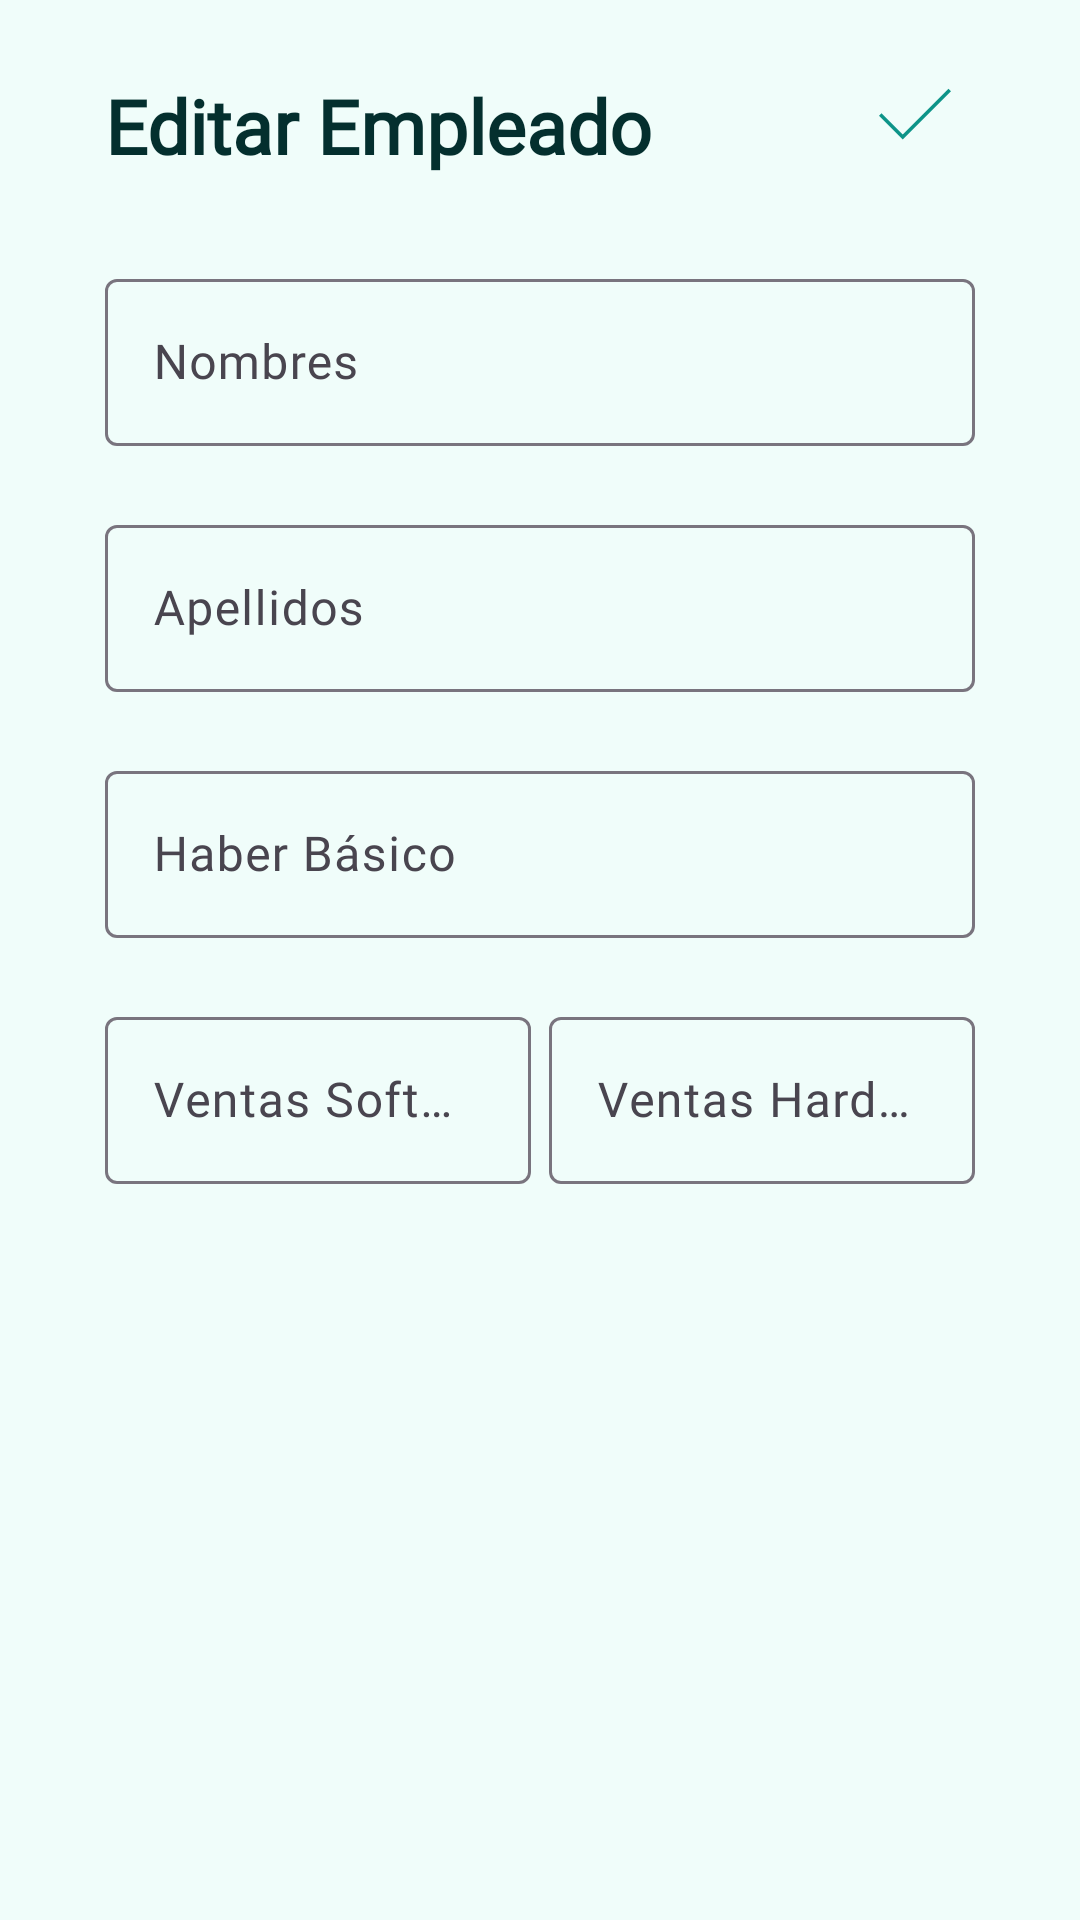

Named icons in this screenshot (1080*1920) and their centers, (x=x, y=y):
check: (x=915, y=114)
